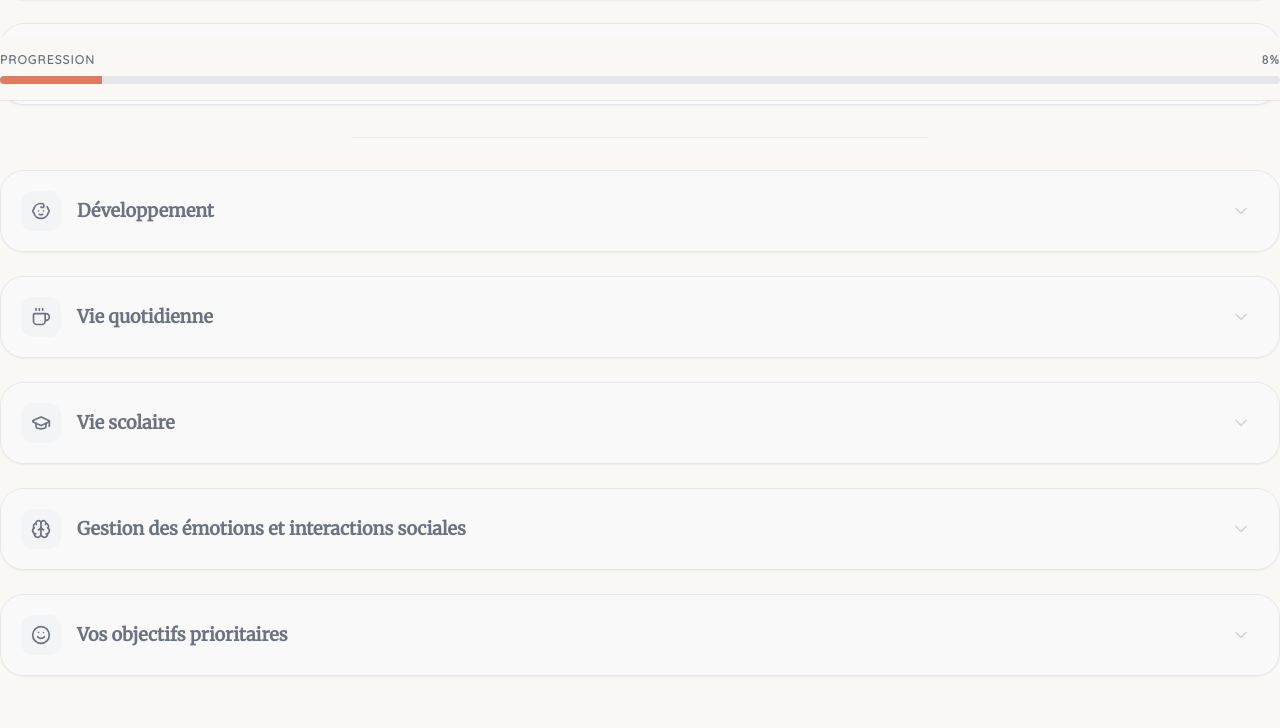
Scenario: SharedQuestionnaire : retours de la testeuse sur le questionnaire parents › regroupe les apprentissages dans un bloc de la vie scolaire (#99)
(page scrolled)
Click the button "Vie scolaire" at [41, 423], box [1,383,1279,463]
(page scrolled)
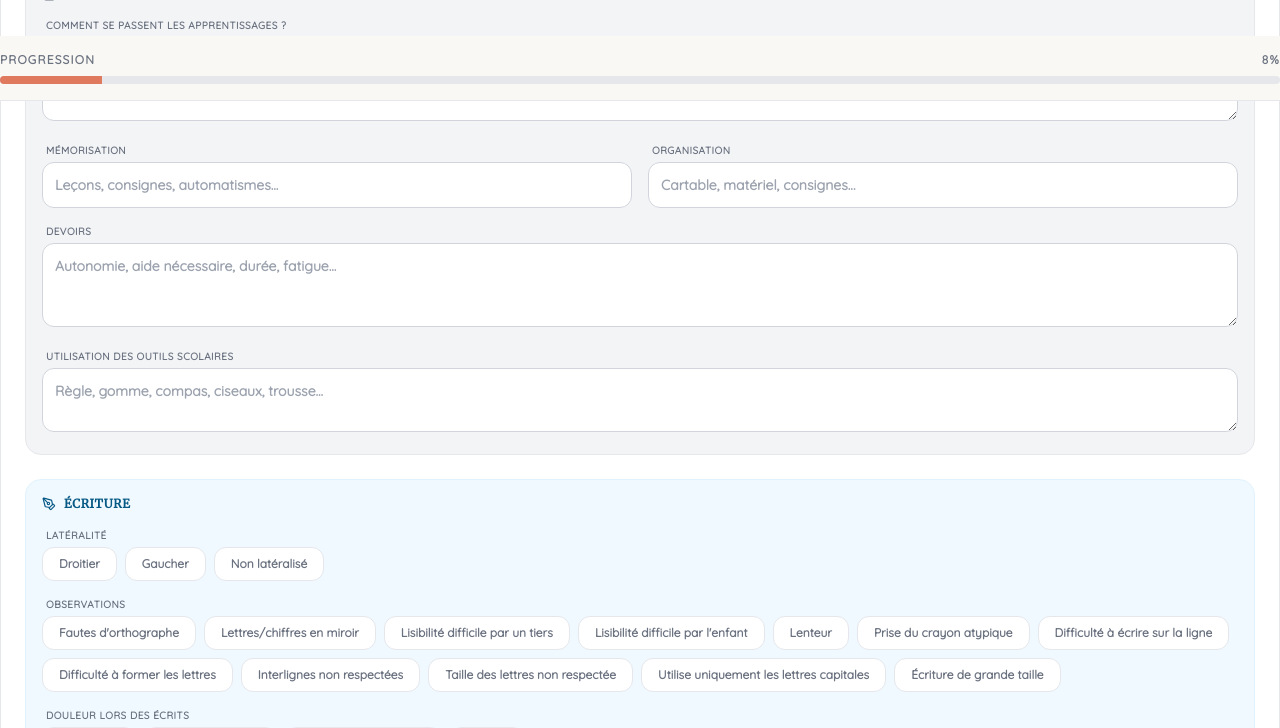
Now the text box labelled "Comment se passent les apprentissages ?" is shown, box [42,37,1238,121]
Now the text "Mémorisation" is shown, box [46,144,126,157]
Now the text "Organisation" is shown, box [652,144,730,157]
